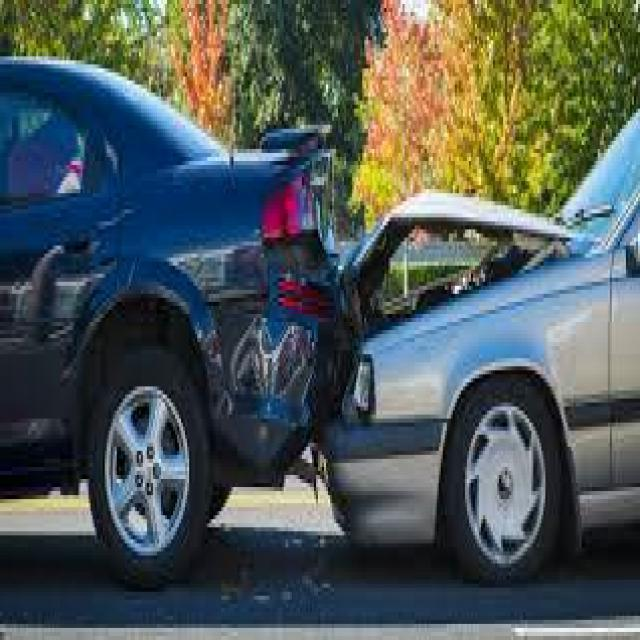multiple_accident: (141, 126, 497, 574)
